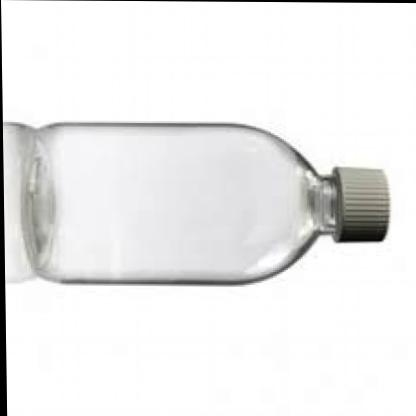trash: (4, 123, 388, 283)
